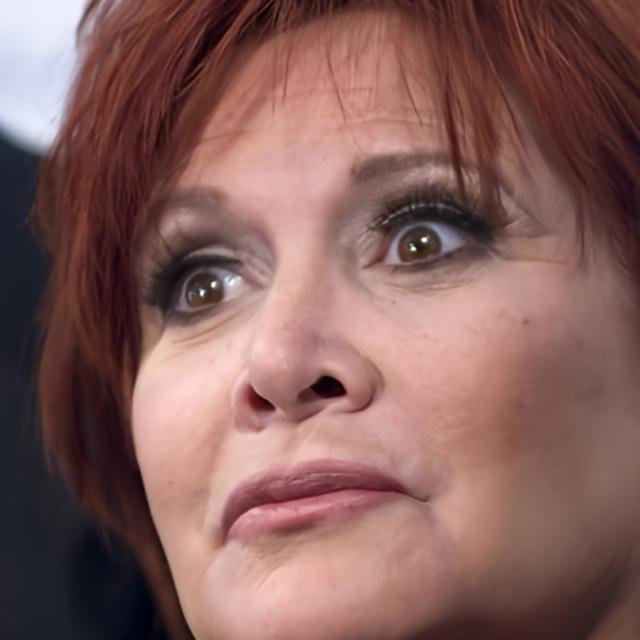fear: (115, 48, 610, 640)
